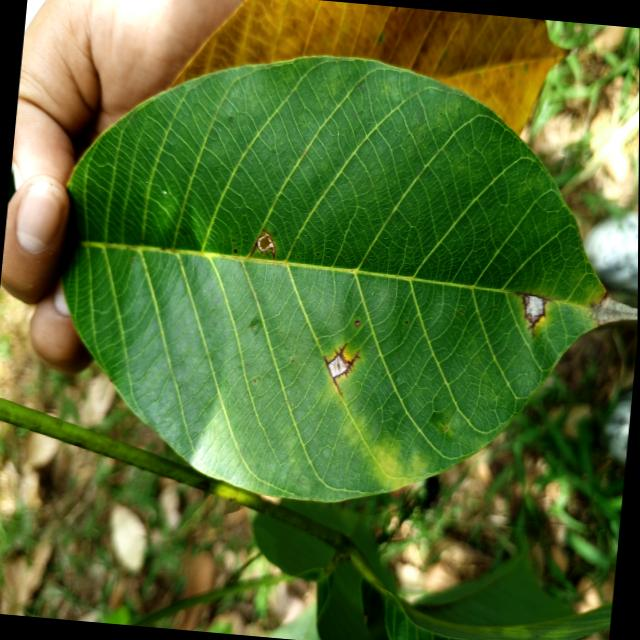Colletotrichum: (354, 319, 361, 326), (234, 248, 238, 252)
Corynespora: (319, 339, 362, 397), (512, 290, 552, 336), (250, 227, 278, 257)
Leaf-Blight: (593, 289, 638, 328), (327, 353, 348, 378), (525, 295, 545, 320)
